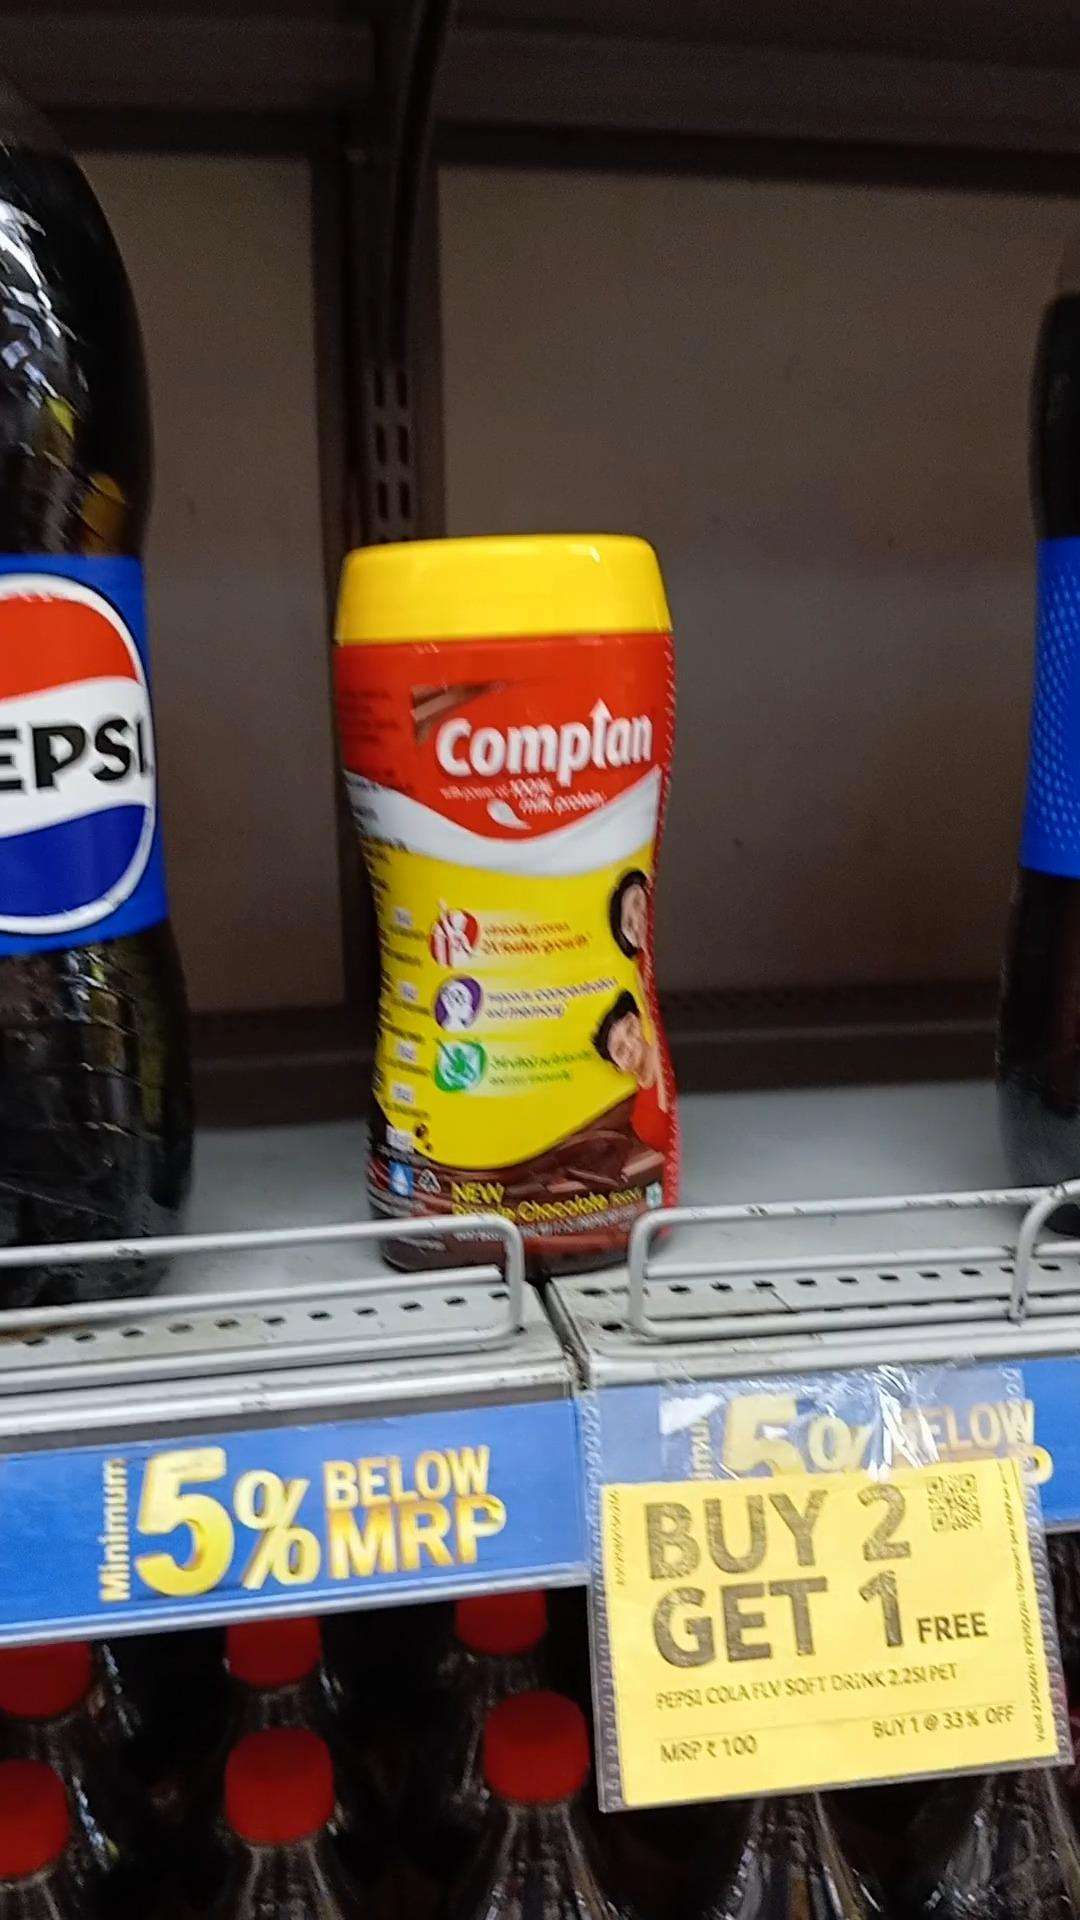COMPLAN_CHOCOLATE_500_GMS_JAR: (343, 525, 680, 1274)
